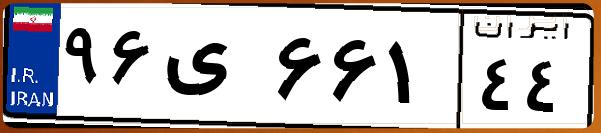1: (385, 28, 445, 110)
4: (475, 38, 525, 113), (525, 38, 570, 115)
6: (270, 28, 330, 110), (330, 28, 385, 110), (110, 28, 158, 98)
9: (57, 26, 110, 100)
ی: (158, 20, 270, 120)
